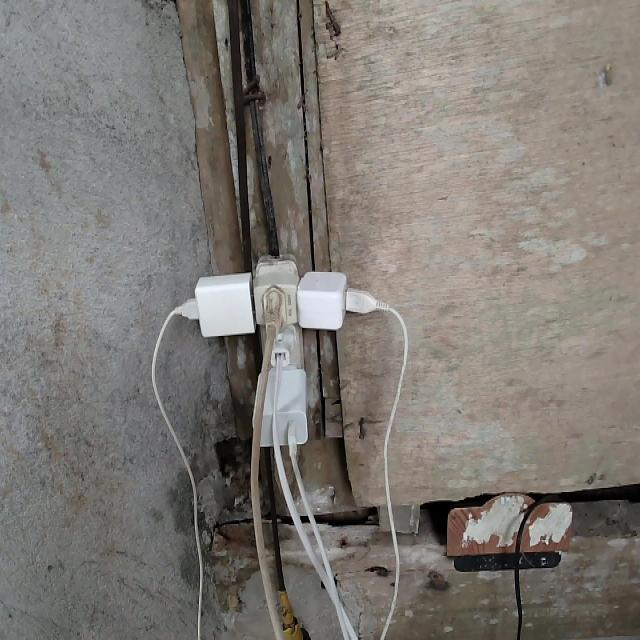-: (190, 253, 364, 450)
